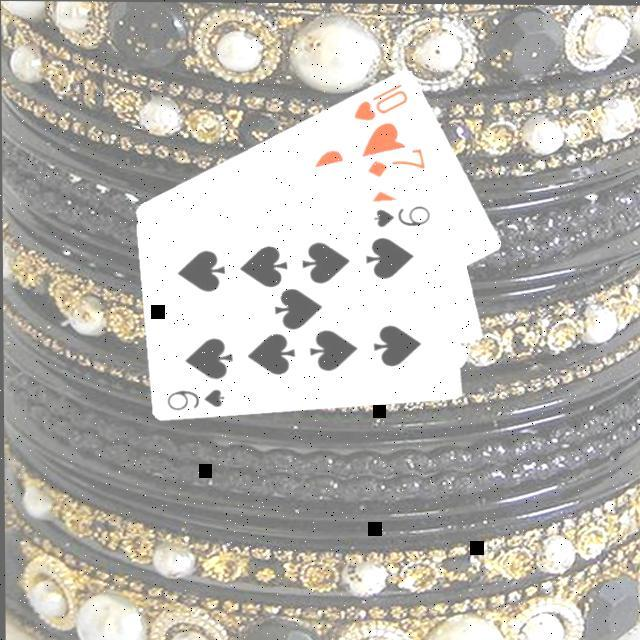10H: (348, 76, 409, 120)
7D: (362, 144, 427, 178)
9S: (368, 200, 432, 228), (162, 383, 226, 411)
